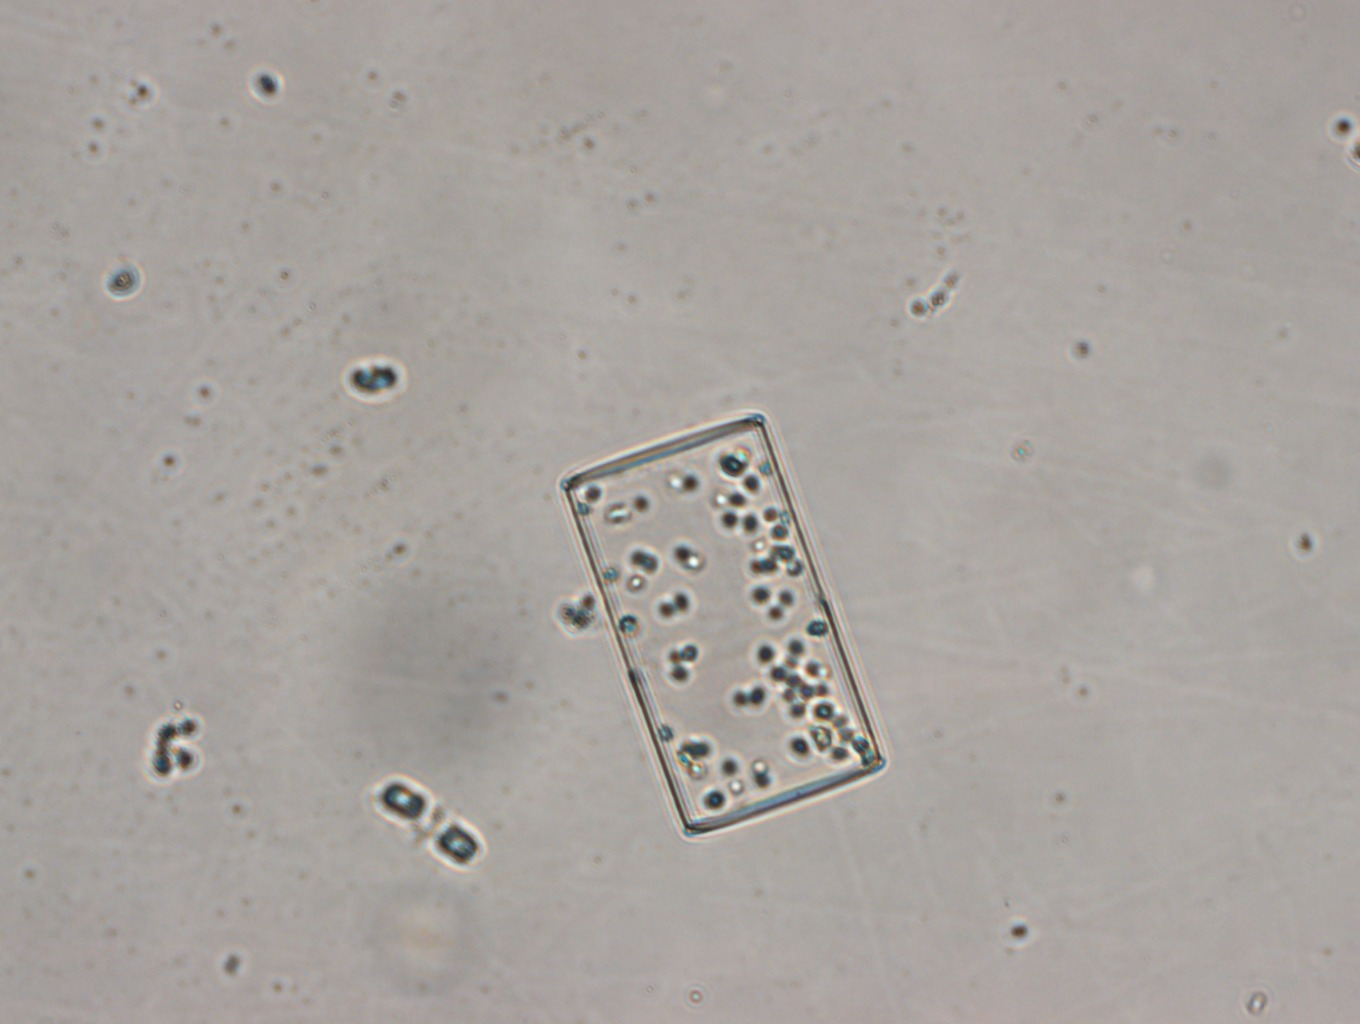guinardia flaccida: (553, 406, 884, 842)
